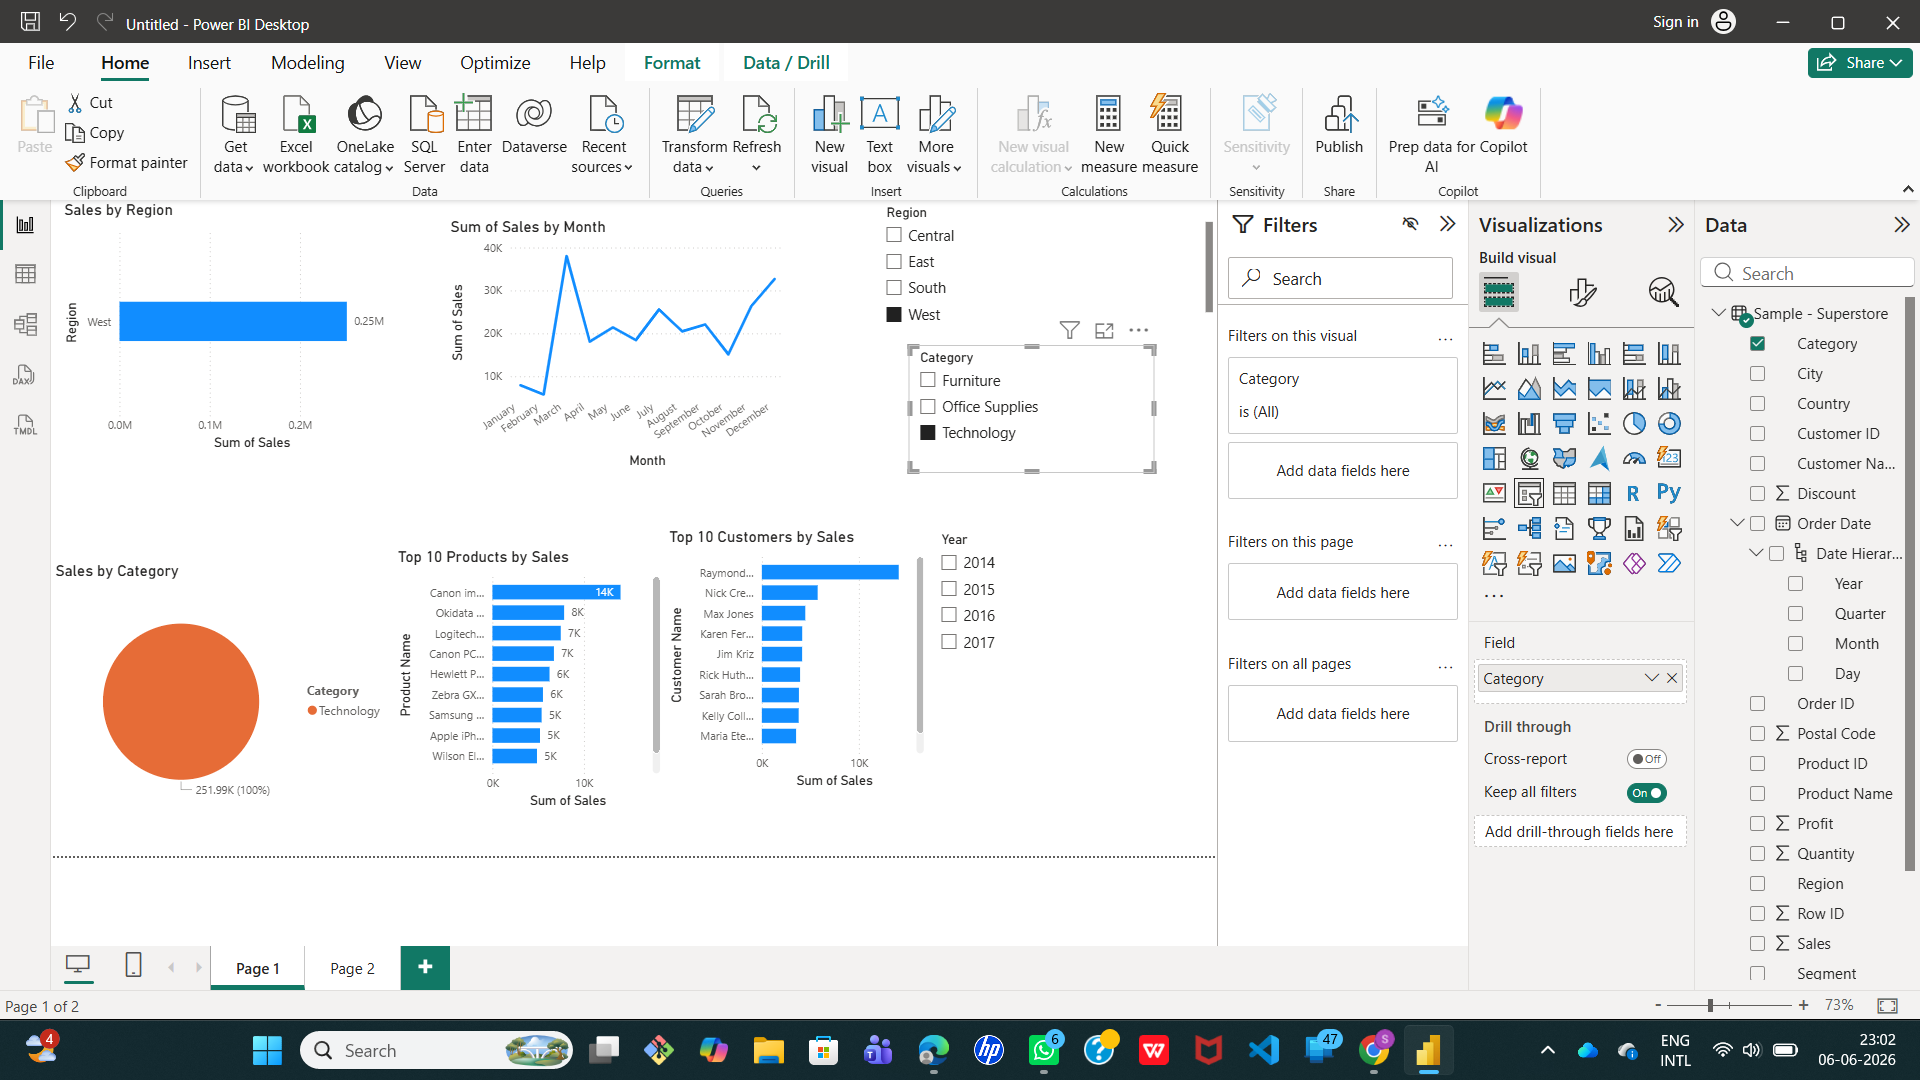

This screenshot's page, from the dashboard's own definition file:
{"tool":"powerbi","page":{"name":"Page 1","canvas":[1280,720],"ordinal":0},"visuals":[{"type":"clusteredBarChart","title":" Sales by Region","fields":{"Category":["Sample - Superstore.Region"],"Y":["Sum(Sample - Superstore.Sales)"]},"box":[52.1,172.9,376,256.6],"z":0},{"type":"lineChart","fields":{"Category":["Sample - Superstore.Order Date.Variation.Date Hierarchy.Month"],"Y":["Sum(Sample - Superstore.Sales)"]},"box":[451.5,172.9,376,256.6],"z":1},{"type":"pieChart","title":"Sales by Category","fields":{"Category":["Sample - Superstore.Category"],"Y":["Sum(Sample - Superstore.Sales)"]},"box":[0,454.2,376,266.2],"z":2},{"type":"clusteredBarChart","title":"Top 10 Products by Sales","fields":{"Category":["Sample - Superstore.Product Name"],"Y":["Sum(Sample - Superstore.Sales)"]},"box":[387,454.2,451.5,266.2],"z":3},{"type":"clusteredBarChart","title":"Top 10 Customers by Sales","fields":{"Category":["Sample - Superstore.Customer Name"],"Y":["Sum(Sample - Superstore.Sales)"]},"box":[874.1,429.5,406.2,290.9],"z":4},{"type":"slicer","fields":{"Values":["Sample - Superstore.Region"]},"box":[1085.4,56.3,188,140],"z":5},{"type":"slicer","fields":{"Values":["Sample - Superstore.Category"]},"box":[1085.4,207.2,194.9,140],"z":6},{"type":"slicer","fields":{"Values":["Sample - Superstore.Order Date.Variation.Date Hierarchy.Year"]},"box":[964.7,196.2,112.5,145.5],"z":7},{"type":"cardVisual","title":"Total Sales","fields":{"Data":["Sum(Sample - Superstore.Sales)"]},"box":[52.1,56.3,167.4,116.6],"z":8},{"type":"cardVisual","title":"Total Profit","fields":{"Data":["Sum(Sample - Superstore.Profit)"]},"box":[292.3,56.3,189.4,116.6],"z":9},{"type":"cardVisual","title":"Total  Quantity","fields":{"Data":["Sum(Sample - Superstore.Quantity)"]},"box":[909.8,56.3,185.2,116.6],"z":10},{"type":"textbox","box":[520.1,9.6,389.7,65.9],"z":11}]}

Visuals, with their boxes on the page's 1280x720 design canvas (x1, y1, x2, y2). These are canvas units, not pixel positions in the 1920x1080 screenshot, which may show the page scaled, cropped or inside an application window:
" Sales by Region" clusteredBarChart: [52,173,428,430]
lineChart - Sample - Superstore.Order Date.Variation.Date Hierarchy.Month x Sum(Sample - Superstore.Sales): [452,173,828,430]
"Sales by Category" pieChart: [0,454,376,720]
"Top 10 Products by Sales" clusteredBarChart: [387,454,838,720]
"Top 10 Customers by Sales" clusteredBarChart: [874,430,1280,720]
slicer - Sample - Superstore.Region: [1085,56,1273,196]
slicer - Sample - Superstore.Category: [1085,207,1280,347]
slicer - Sample - Superstore.Order Date.Variation.Date Hierarchy.Year: [965,196,1077,342]
"Total Sales" cardVisual: [52,56,220,173]
"Total Profit" cardVisual: [292,56,482,173]
"Total  Quantity" cardVisual: [910,56,1095,173]
textbox: [520,10,910,76]
